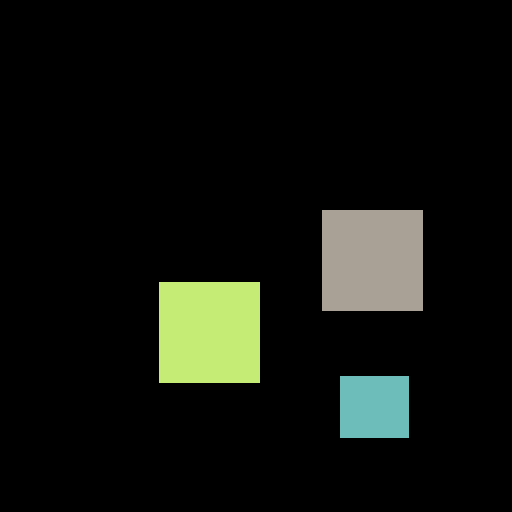rectangle: (340, 376, 408, 437)
square: (159, 282, 259, 382), (322, 210, 422, 310)
